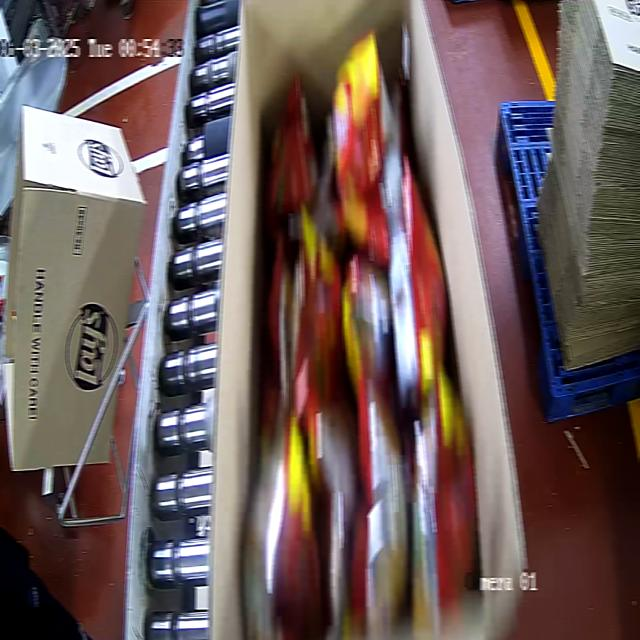MASALA: (242, 30, 480, 637)
